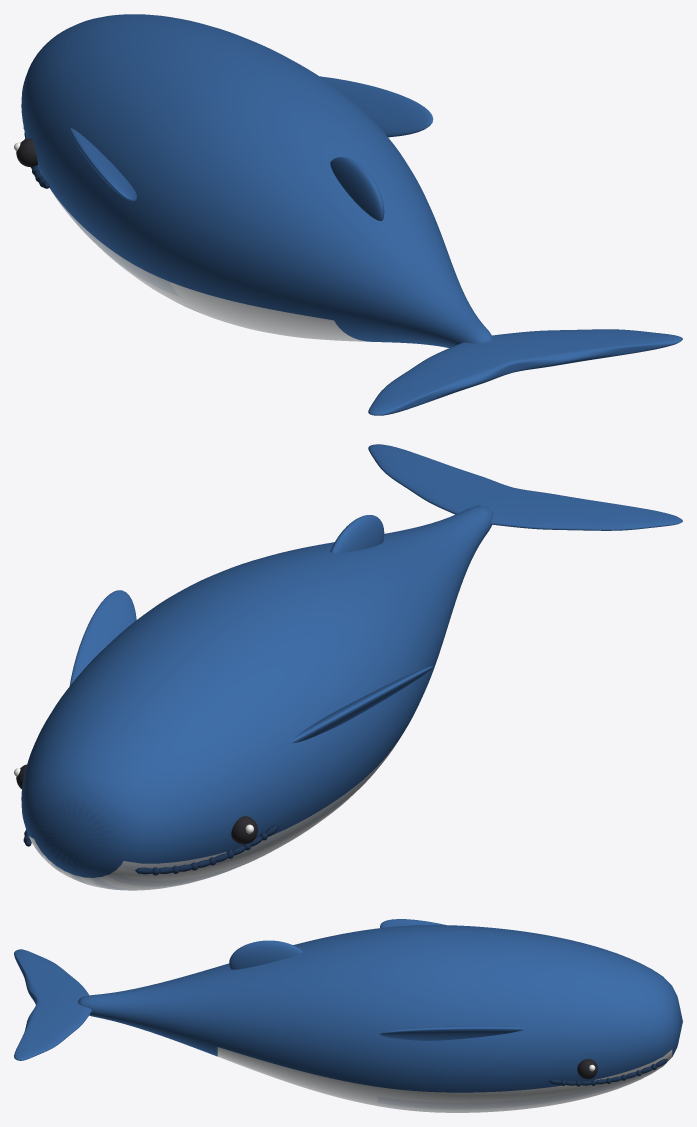
Rendered from whale.glb.
The picture shows the model from 3 angles, top to bottom: view 1: azimuth 30°, elevation 25°; view 2: azimuth 150°, elevation 25°; view 3: azimuth 270°, elevation 25°; orthographic projection. The views are drawn at different scales.
Visible parts, largest first — view 1: Whale; view 2: Whale; view 3: Whale.
Boxes of the visible parts, x1,y1,x2,y2 form: Whale: (14, 14, 682, 415); Whale: (14, 444, 682, 890); Whale: (14, 919, 682, 1112).
Bounding box in the file's own units: 1.76 × 1.2 × 4.43.
